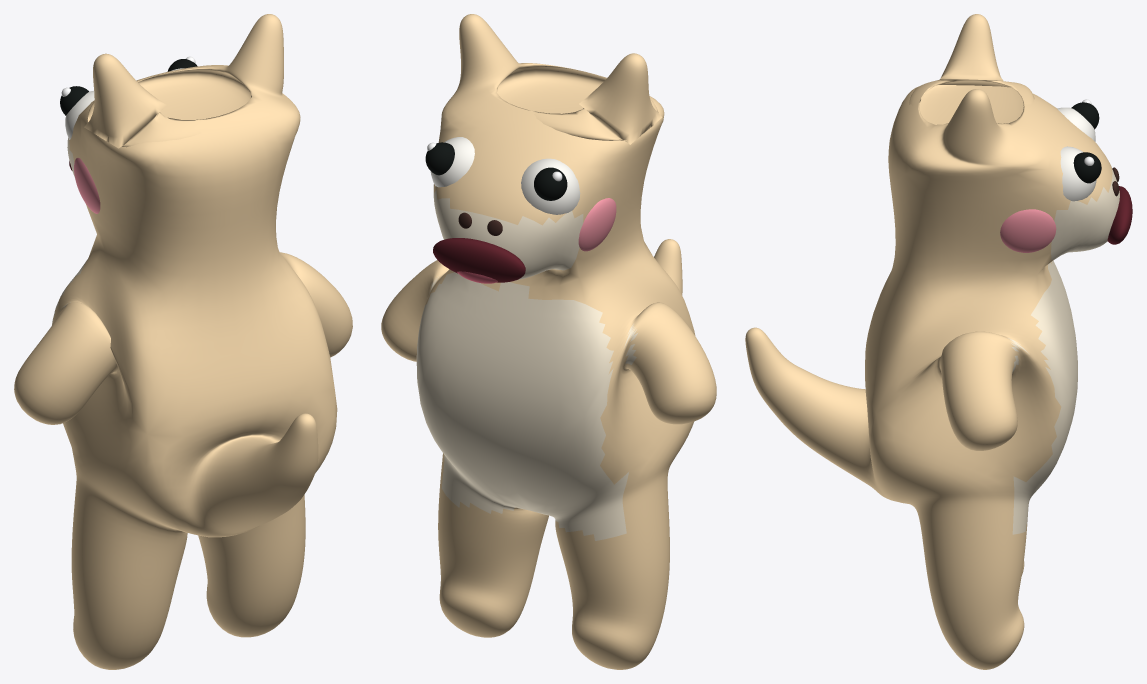
Rendered from nailong.glb.
3 views of the same model, side by side, from view 1: azimuth 30°, elevation 25°; view 2: azimuth 150°, elevation 25°; view 3: azimuth 270°, elevation 25° (orthographic). The views are drawn at different scales.
Parts seen in each view (by area): view 1: NailongBody, Cheek_R, EyeWhite_R; view 2: NailongBody, Mouth, EyeWhite_R, Cheek_R, EyeWhite_L, Pupil_R, Pupil_L; view 3: NailongBody, Cheek_L, EyeWhite_L, Mouth, Pupil_L.
Boxes of the visible parts, x1,y1,x2,y2 form: NailongBody: [14, 14, 352, 669]; Cheek_R: [74, 158, 100, 213]; EyeWhite_R: [65, 91, 94, 139]; NailongBody: [381, 14, 716, 669]; Mouth: [433, 238, 525, 282]; EyeWhite_R: [521, 158, 580, 214]; Cheek_R: [578, 198, 616, 251]; EyeWhite_L: [430, 137, 474, 187]; Pupil_R: [534, 167, 567, 200]; Pupil_L: [425, 142, 454, 175]; NailongBody: [745, 14, 1119, 669]; Cheek_L: [1000, 209, 1056, 252]; EyeWhite_L: [1060, 146, 1096, 201]; Mouth: [1107, 186, 1132, 244]; Pupil_L: [1073, 152, 1101, 183].
Size of the model in its own units: 0.9607 by 1.73 by 1.04.
